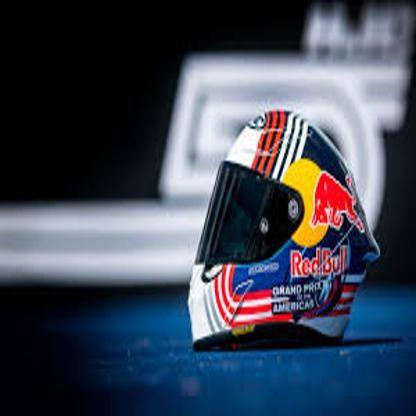not trash: (186, 108, 379, 344)
